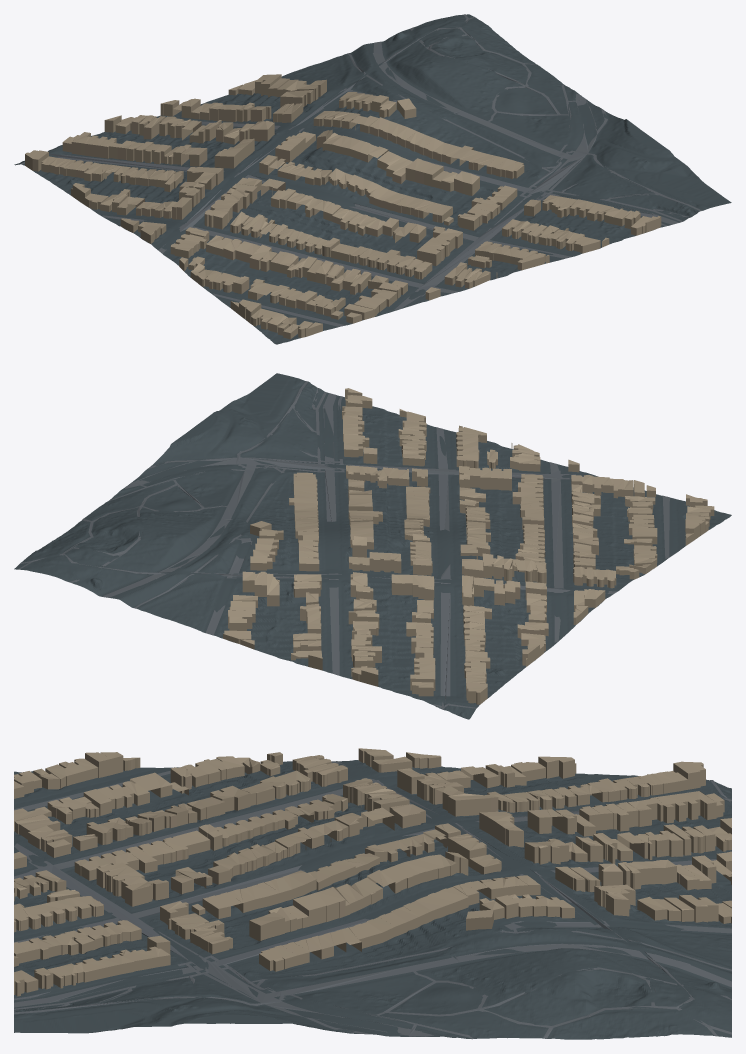
Rendered from epsg26910-1433-10871.lod0.glb.
3 views of the same model, one above another, from view 1: azimuth 30°, elevation 25°; view 2: azimuth 150°, elevation 25°; view 3: azimuth 270°, elevation 25° (orthographic). The views are drawn at different scales.
Visible parts, largest first — view 1: epsg26910-1433-10871-lod0; view 2: epsg26910-1433-10871-lod0; view 3: epsg26910-1433-10871-lod0.
Boxes of the visible parts, left/top/right/bottom form: epsg26910-1433-10871-lod0: left=14, top=14, right=731, bottom=344; epsg26910-1433-10871-lod0: left=14, top=373, right=731, bottom=719; epsg26910-1433-10871-lod0: left=14, top=748, right=731, bottom=1039.
Bounding box in the file's own units: 384 × 45.84 × 384.
